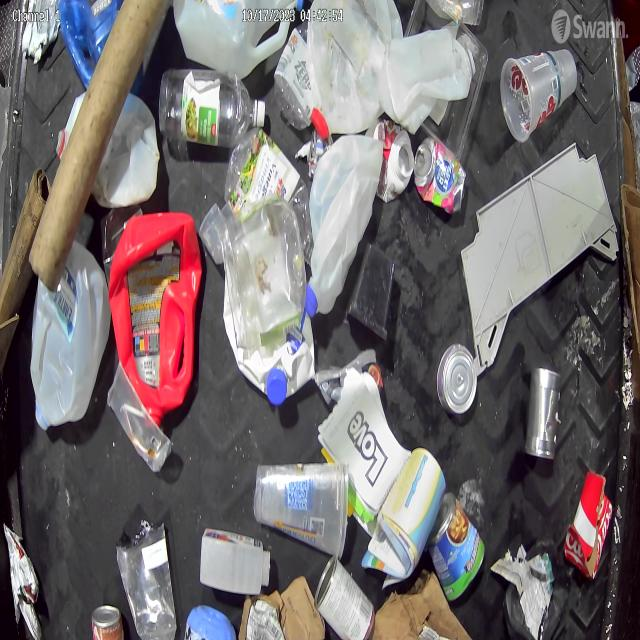can: (430, 492, 486, 602), (313, 556, 374, 639), (413, 134, 468, 217), (525, 364, 562, 461), (435, 342, 478, 418), (89, 603, 124, 640)
milk_jug: (30, 229, 109, 436), (305, 131, 381, 315), (306, 0, 398, 133), (387, 27, 473, 133), (174, 1, 282, 79)
non_white_jug: (107, 208, 201, 424)
plastic_bottle: (161, 71, 266, 149)
